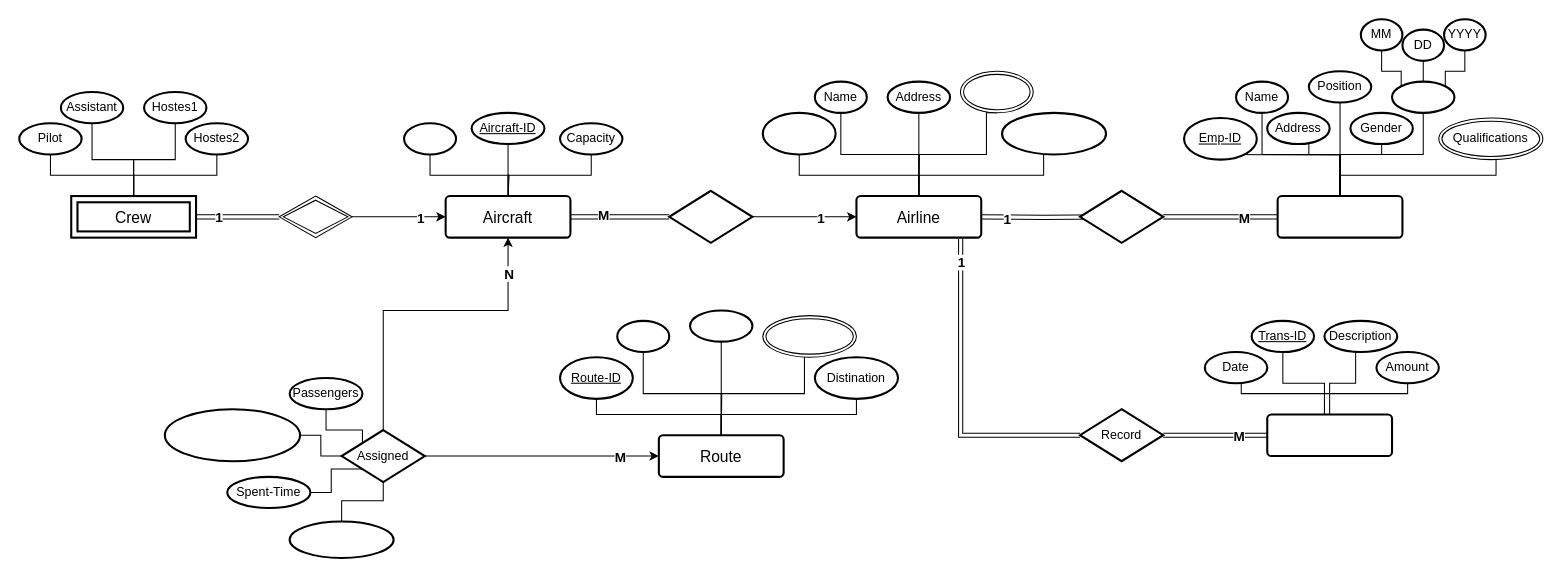
The diagram is 1561 pixels wide and 576 high, and some of its shapes have lost their labels. The shapes that lost their labels are listed below. From the top down, each one's box as (x1, y1, x2, y2) in pixels, then its label:
(959, 70, 1033, 113): Numbers
(1390, 80, 1455, 113): Birthday
(402, 122, 457, 155): Model
(761, 111, 836, 155): Airline-ID
(1000, 111, 1107, 155): Contact-Person
(278, 195, 352, 238): Own
(668, 189, 753, 243): Has
(1078, 189, 1164, 243): Works In
(1276, 194, 1403, 238): Employee
(616, 319, 670, 353): Origin
(688, 309, 753, 342): Distance
(762, 315, 856, 357): Classification
(163, 408, 301, 462): departure date-time
(1266, 413, 1393, 457): Transaction
(288, 520, 394, 558): Arrival date-time
